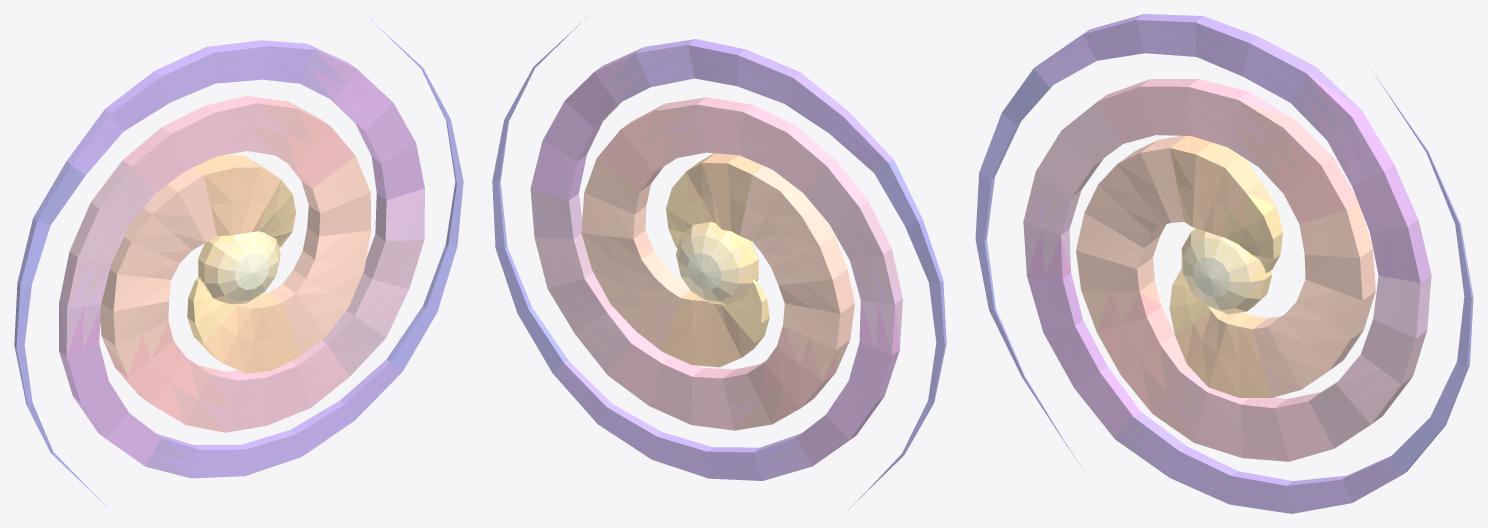
Rendered from galaxy-013.glb.
The picture shows the model from 3 angles, left to right: view 1: azimuth 30°, elevation 25°; view 2: azimuth 150°, elevation 25°; view 3: azimuth 330°, elevation 25°; orthographic projection. The views are drawn at different scales.
Visible parts, largest first — view 1: galaxy-013; view 2: galaxy-013; view 3: galaxy-013.
Boxes of the visible parts, x1,y1,x2,y2 form: galaxy-013: (14,19,463,507); galaxy-013: (492,17,946,509); galaxy-013: (975,14,1473,513).
Size of the model in its own units: 147 by 137 by 16.72.
